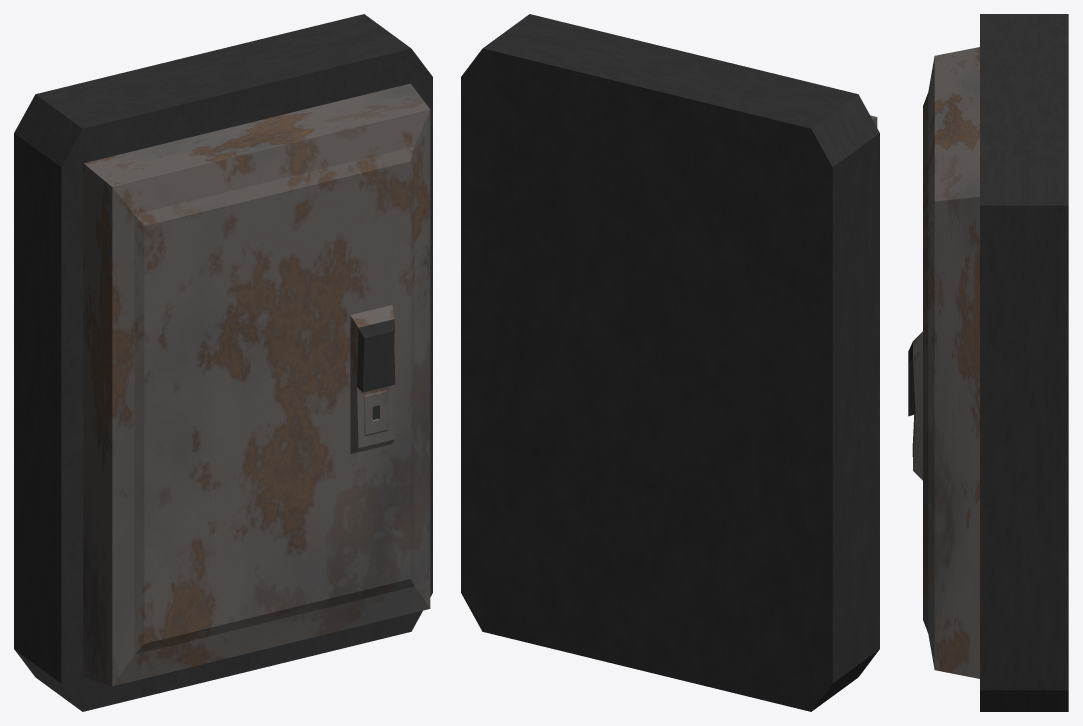
Rendered from PowerBox.fbx.
3 renders of one model, left to right at view 1: azimuth 30°, elevation 25°; view 2: azimuth 150°, elevation 25°; view 3: azimuth 270°, elevation 25°, orthographic. The views are drawn at different scales.
Parts seen in each view (by area): view 1: Cube; view 2: Cube; view 3: Cube.
Part boxes in pixels (x1,y1,x2,y2): Cube: (14,14,432,711); Cube: (461,14,879,711); Cube: (908,14,1068,711).
Bounding box in the file's own units: 227 × 341 × 90.48.
